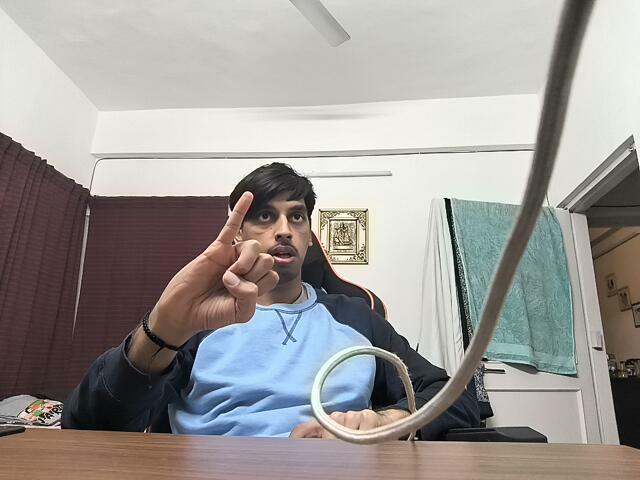RIGHT: (168, 176, 273, 343)
